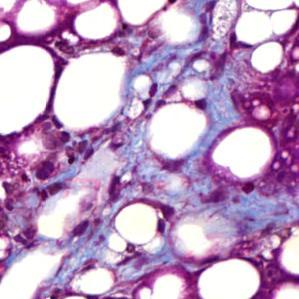steatosis: (53, 48, 128, 138), (1, 42, 54, 141), (145, 92, 206, 161), (211, 121, 275, 181), (109, 196, 168, 248), (198, 256, 262, 298), (225, 7, 294, 44), (72, 5, 122, 42), (11, 0, 57, 36), (244, 43, 288, 80), (70, 267, 116, 295)
